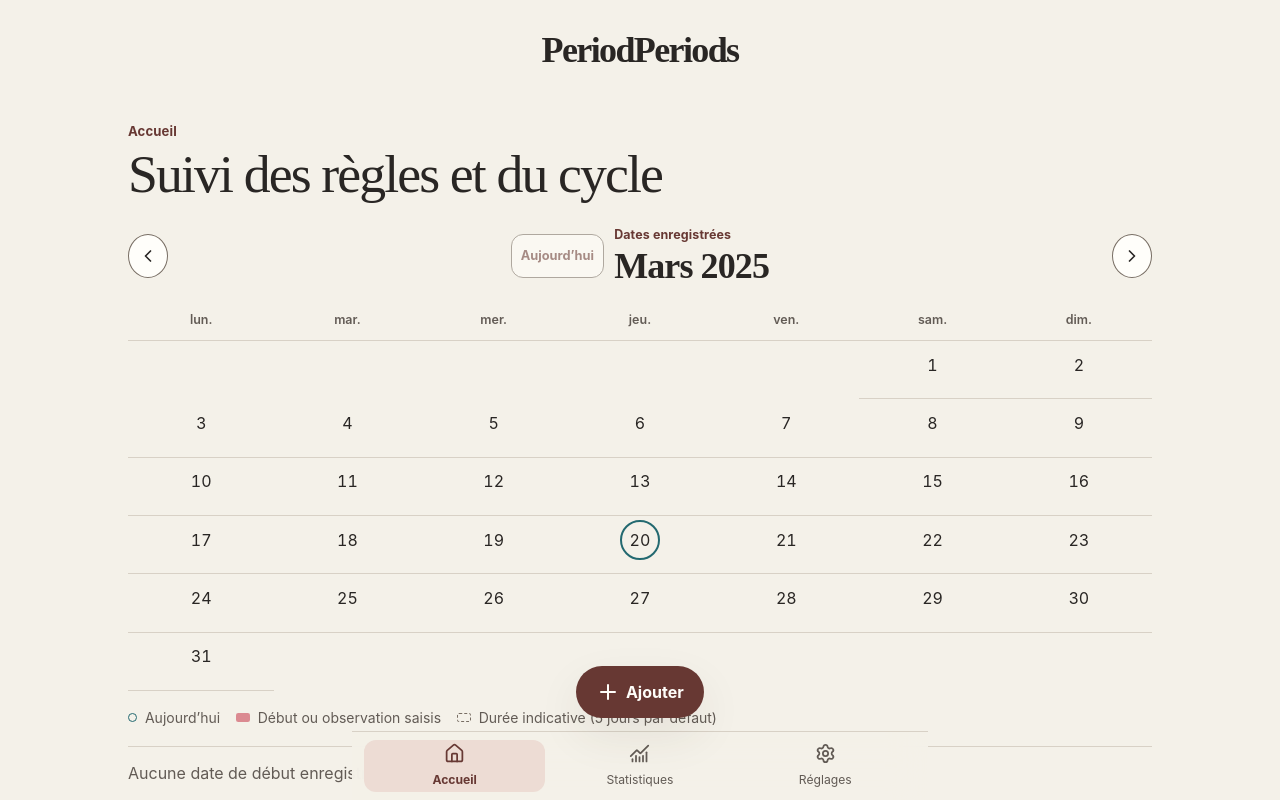
Scenario: PeriodPeriods app › shows the settings destination as current when selected
Expected: the button with aria-label "Ajouter un événement" is shown, x1=576 y1=666 x2=704 y2=718
Click the button "Réglages": (825, 766) x1=735 y1=740 x2=916 y2=792
(page scrolled)
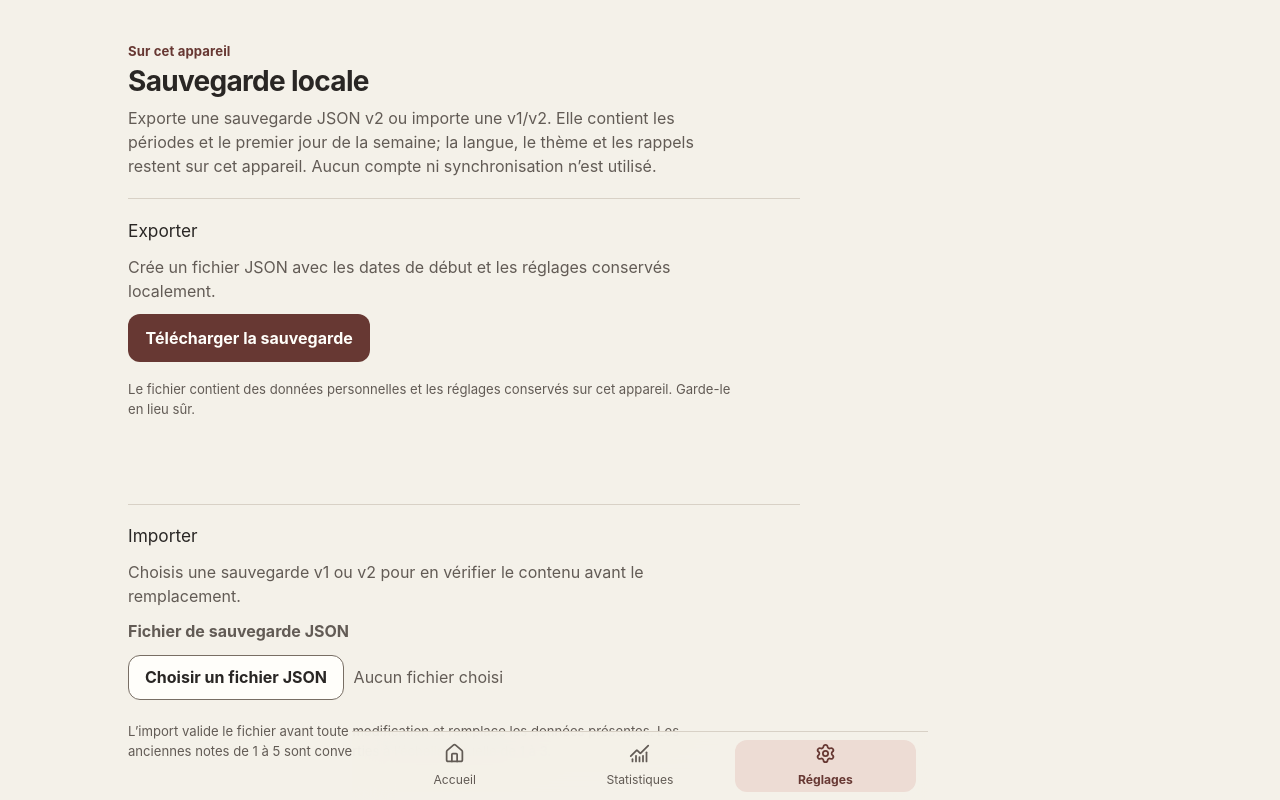
Result: the heading "Sauvegarde locale" is shown at x1=128 y1=64 x2=369 y2=98
Result: the button "Télécharger la sauvegarde" is shown at x1=128 y1=314 x2=370 y2=362
Result: the element named "Fichier de sauvegarde JSON" is shown at x1=128 y1=655 x2=503 y2=700
